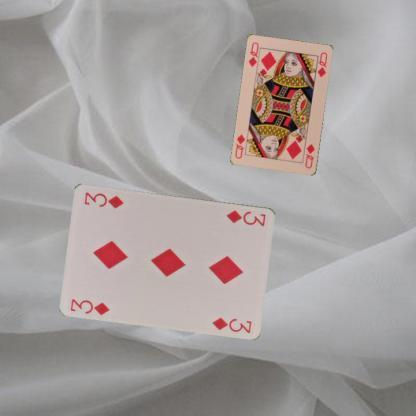3d: (224, 207, 267, 228), (68, 296, 112, 316)
Qd: (300, 138, 316, 170), (246, 40, 262, 70)
